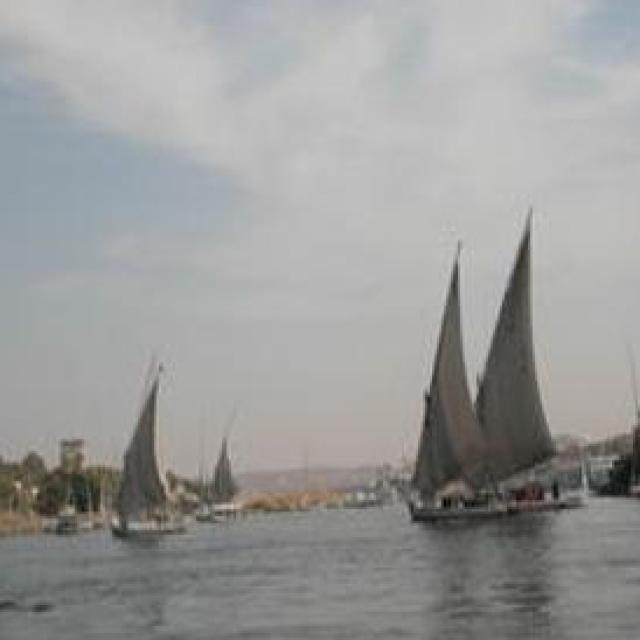sailboat: (378, 232, 511, 519), (466, 208, 585, 507), (102, 364, 180, 542), (212, 402, 253, 523)
